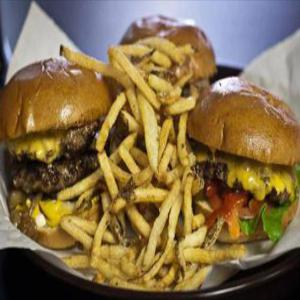cheeseburger: (4, 57, 99, 250), (204, 76, 298, 252)
fries: (102, 45, 193, 290)
